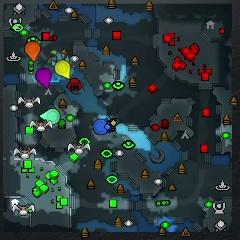p1: (93, 119, 109, 135)
p2: (40, 108, 61, 123)
p3: (36, 67, 52, 88)
p4: (55, 60, 70, 80)
p5: (25, 42, 40, 61)
x2: (47, 50, 62, 62)
x3: (51, 53, 70, 65)
